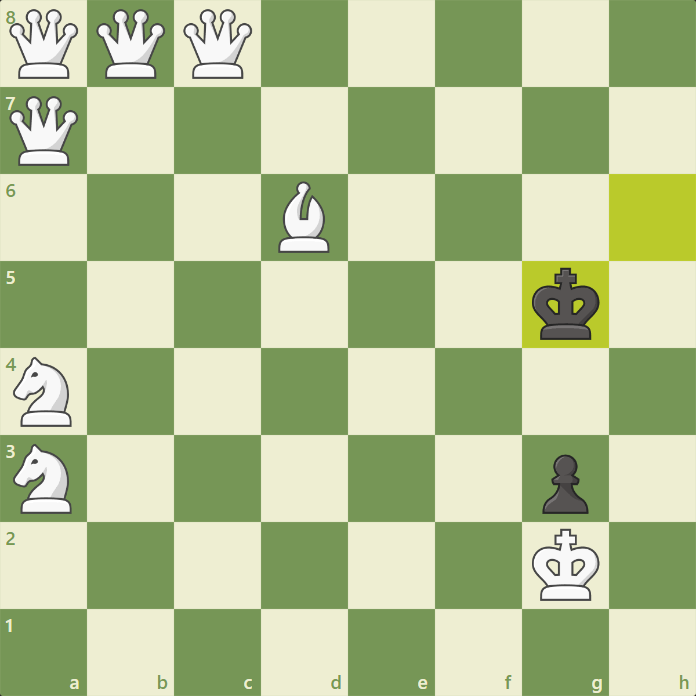B: (276, 180, 332, 255)
K: (530, 528, 603, 603)
N: (12, 442, 75, 516), (10, 355, 73, 429)
Q: (6, 94, 81, 167), (4, 7, 79, 80), (91, 7, 166, 80), (178, 7, 253, 80)
k: (530, 266, 602, 343)
p: (539, 452, 591, 516)
